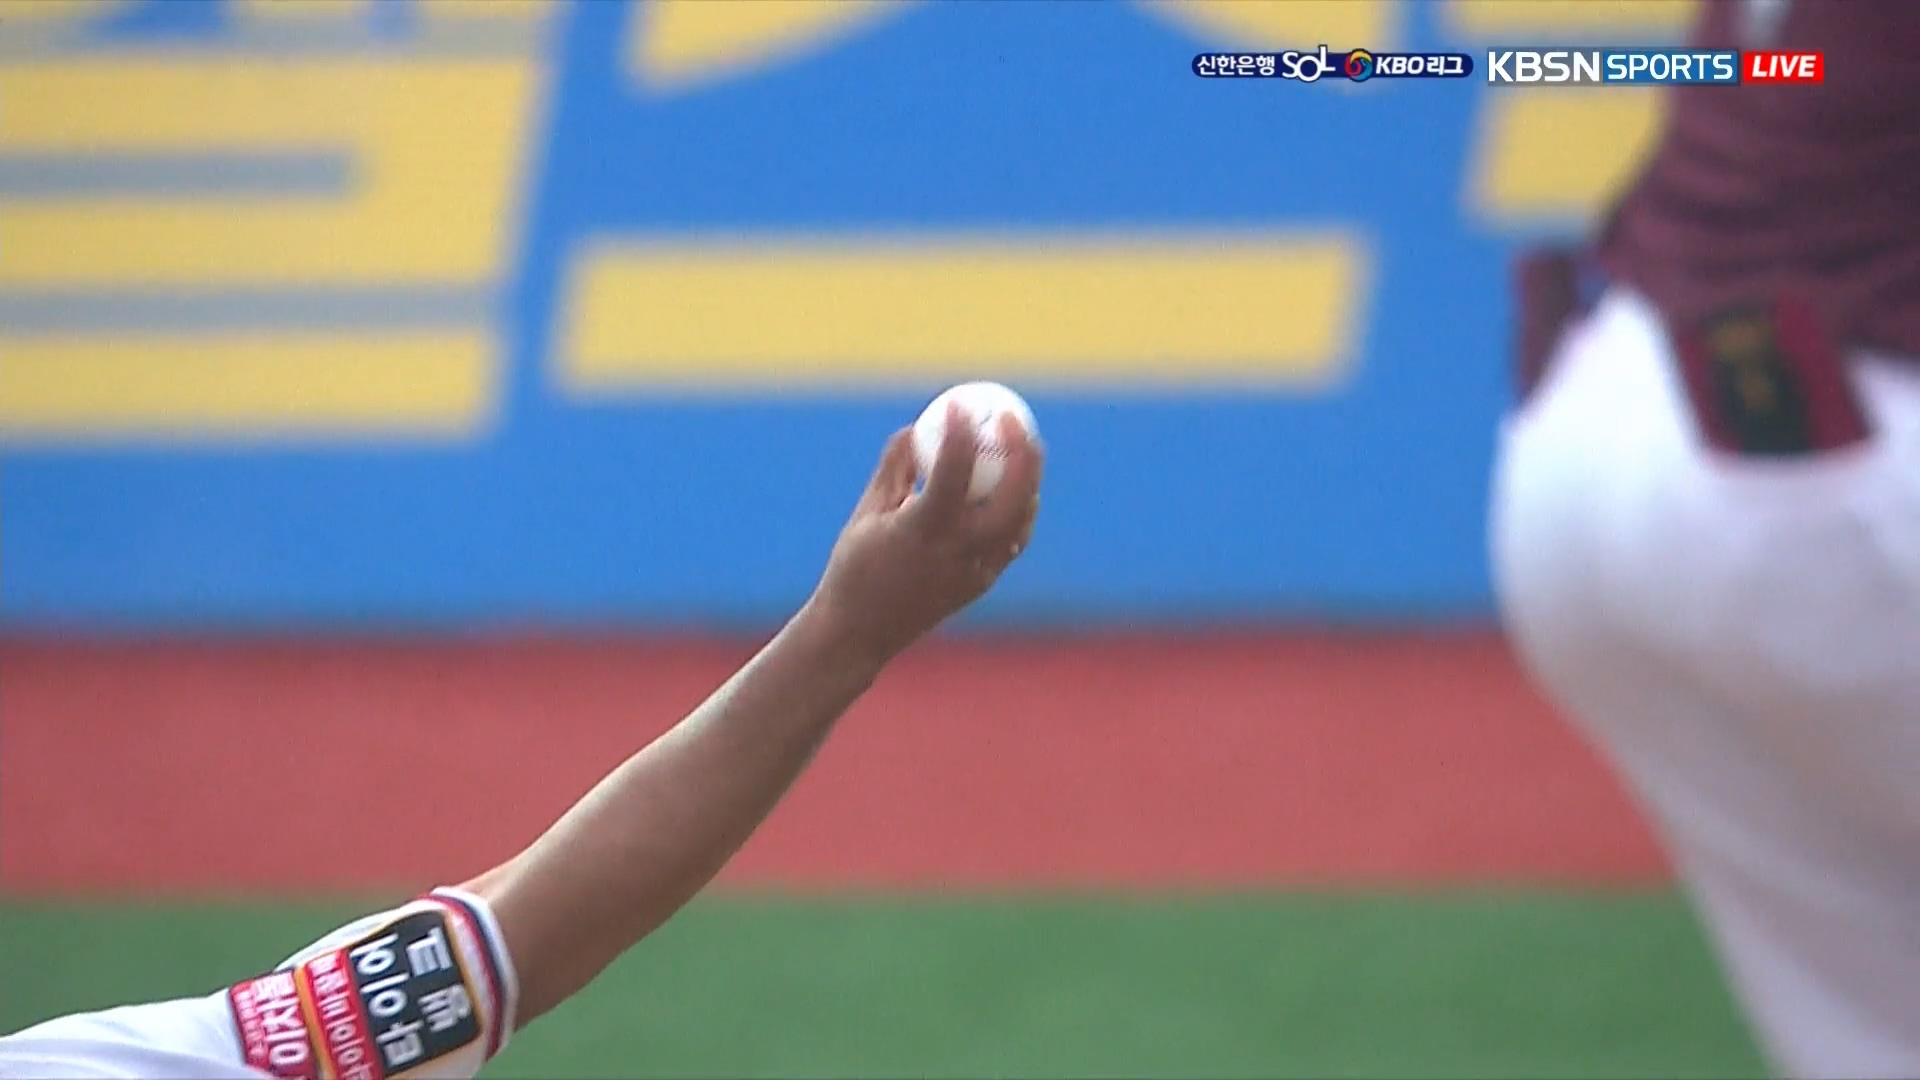zoomin_hand: (483, 376, 1050, 1031)
